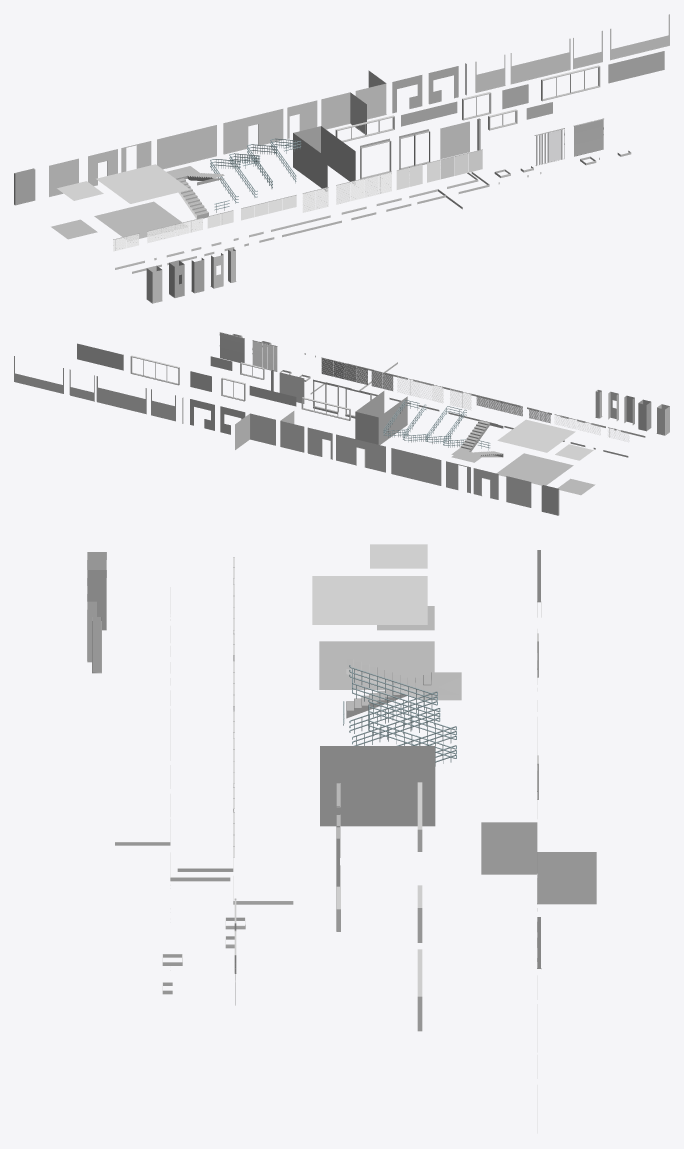
The model's file is FBX_Hospital_Modular.fbx.
3 views of the same model, one above another, from view 1: azimuth 30°, elevation 25°; view 2: azimuth 150°, elevation 25°; view 3: azimuth 270°, elevation 25° (orthographic). The views are drawn at different scales.
Visible parts, largest first — view 1: SM_Stairs_walls, SM_Ceiling_6m, SM_Floor_6m, SM_Wall_6m, SM_Wall_6m_door, SM_Wall_corner_inside, SM_WallWindowInnerA_6m, SM_BlindsB_closed_6m, SM_BlindsB_6m, SM_WindowInnerB_6m_Glass, SM_Stairs, SM_BlindsVertical_closed (+25 smaller); view 2: SM_Stairs_walls, SM_Ceiling_6m, SM_Floor_6m, SM_Wall_6m, SM_Wall_6m_door, SM_Wall_corner_outside, SM_Stairs, SM_WallWindowInnerA_6m, SM_BlindsB_closed_6m, SM_Wall_corner_inside, SM_WindowInnerB_6m_Glass, SM_BlindsB_6m (+28 smaller); view 3: SM_Stairs_walls, SM_Ceiling_6m, SM_Floor_6m, SM_Wall_corner_outside, SM_Stairs, SM_Wall_corner_inside, SM_Ceiling_3m, SM_tairs_rails_A, SM_Stairs_rails_B, SM_Stairs_rails_C.
Boxes of the visible parts, bbox=[...] form: SM_Stairs_walls: bbox=[293, 126, 355, 191]; SM_Ceiling_6m: bbox=[96, 164, 189, 203]; SM_Floor_6m: bbox=[94, 201, 187, 240]; SM_Wall_6m: bbox=[157, 125, 216, 169]; SM_Wall_6m_door: bbox=[223, 109, 283, 154]; SM_Wall_corner_inside: bbox=[321, 92, 366, 134]; SM_WallWindowInnerA_6m: bbox=[510, 38, 570, 84]; SM_BlindsB_closed_6m: bbox=[427, 149, 482, 182]; SM_BlindsB_6m: bbox=[336, 171, 391, 204]; SM_WindowInnerB_6m_Glass: bbox=[608, 51, 664, 83]; SM_Stairs: bbox=[166, 166, 224, 218]; SM_BlindsVertical_closed: bbox=[574, 118, 603, 156]; SM_Stairs_walls: bbox=[355, 391, 407, 444]; SM_Ceiling_6m: bbox=[497, 419, 575, 452]; SM_Floor_6m: bbox=[496, 453, 573, 485]; SM_Wall_6m: bbox=[391, 448, 441, 485]; SM_Wall_6m_door: bbox=[336, 434, 385, 472]; SM_Wall_corner_outside: bbox=[235, 413, 275, 449]; SM_Stairs: bbox=[451, 420, 503, 462]; SM_WallWindowInnerA_6m: bbox=[96, 376, 146, 414]; SM_BlindsB_closed_6m: bbox=[321, 357, 367, 384]; SM_Wall_corner_inside: bbox=[280, 411, 304, 452]; SM_WindowInnerB_6m_Glass: bbox=[77, 343, 123, 370]; SM_BlindsB_6m: bbox=[397, 376, 443, 403]; SM_Stairs_walls: bbox=[320, 746, 435, 826]; SM_Ceiling_6m: bbox=[312, 576, 427, 624]; SM_Floor_6m: bbox=[319, 641, 434, 689]; SM_Wall_corner_outside: bbox=[537, 852, 596, 904]; SM_Stairs: bbox=[346, 659, 461, 718]; SM_Wall_corner_inside: bbox=[481, 822, 537, 874]; SM_Ceiling_3m: bbox=[370, 544, 427, 568]; SM_tairs_rails_A: bbox=[349, 665, 437, 733]; SM_Stairs_rails_B: bbox=[352, 669, 440, 745]; SM_Stairs_rails_C: bbox=[368, 699, 456, 745].
Size of the model in its own units: 65.51 by 4.51 by 26.5.
